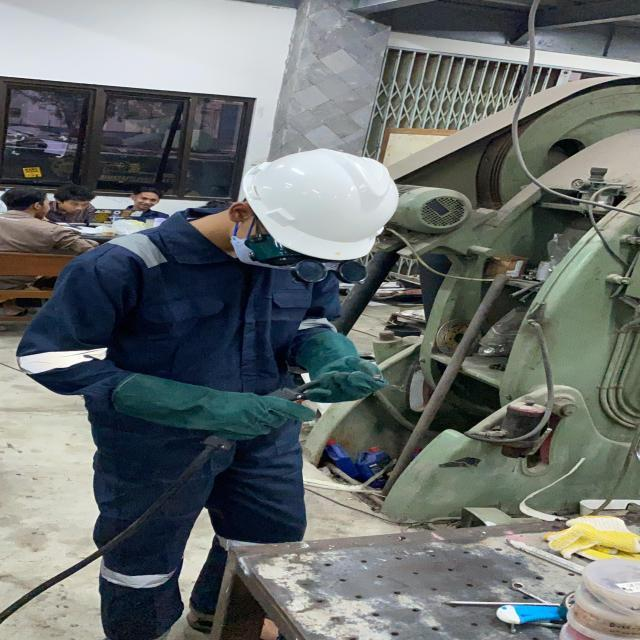glasses: (240, 230, 374, 288)
